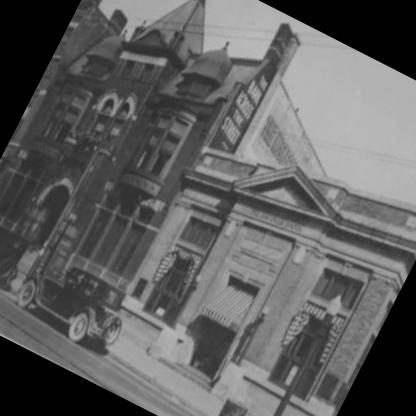car: (14, 246, 138, 360), (1, 208, 39, 296)
